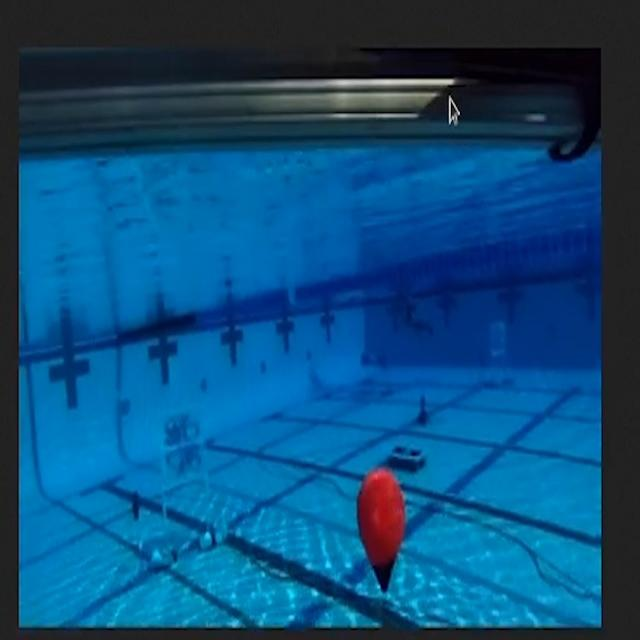Buoy: (346, 453, 417, 608)
